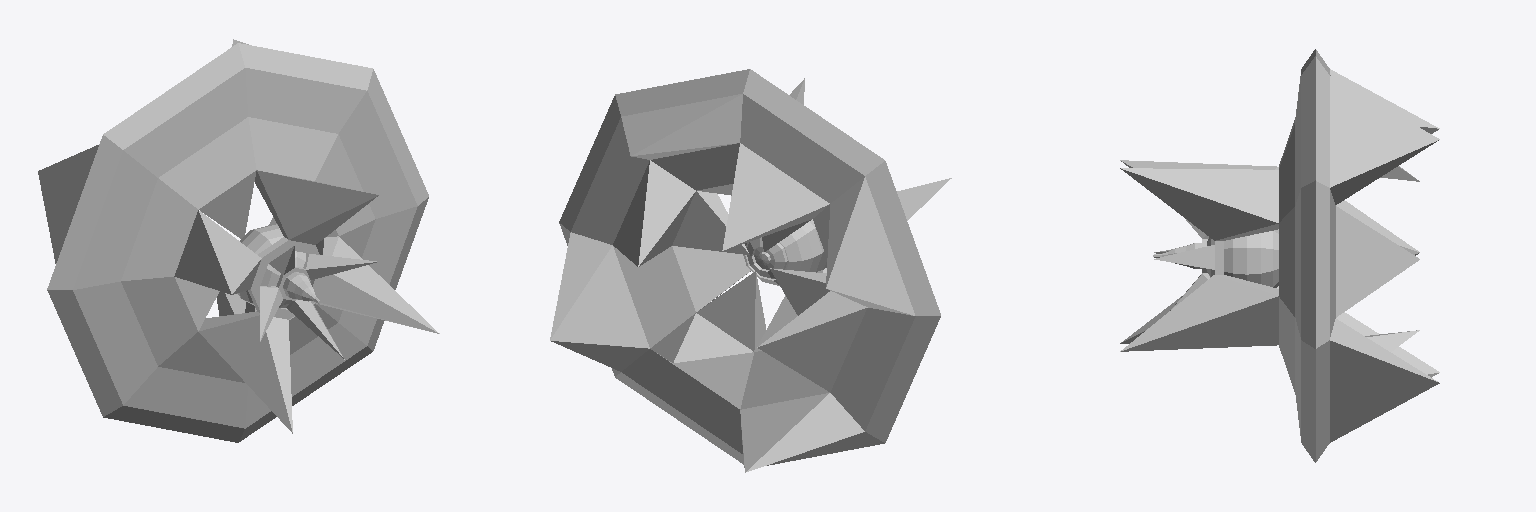
File: Monster_4.obj
3 views of the same model, side by side, from view 1: azimuth 30°, elevation 25°; view 2: azimuth 150°, elevation 25°; view 3: azimuth 270°, elevation 25° (orthographic).
Parts seen in each view (by area): view 1: pCylinder2, pSphere1; view 2: pCylinder2, pSphere1; view 3: pCylinder2, pSphere1.
Boxes of the visible parts, x1=… form: pCylinder2: x1=38, y1=39, x2=439, y2=442; pSphere1: x1=237, y1=224, x2=312, y2=307; pCylinder2: x1=550, y1=69, x2=951, y2=472; pSphere1: x1=743, y1=219, x2=824, y2=285; pCylinder2: x1=1120, y1=49, x2=1439, y2=462; pSphere1: x1=1207, y1=229, x2=1278, y2=287.
Bounding box in the file's own units: 10.03 × 10.03 × 7.29.